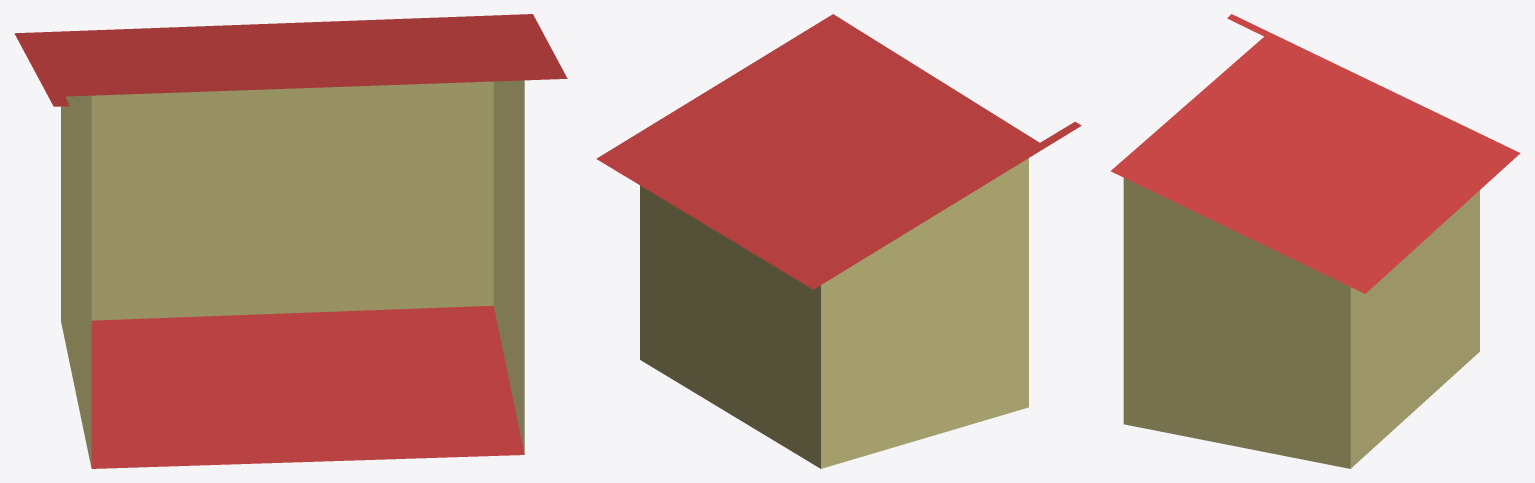
3 views of the same model, side by side, from view 1: azimuth 30°, elevation 25°; view 2: azimuth 150°, elevation 25°; view 3: azimuth 270°, elevation 25° (orthographic). The views are drawn at different scales.
Visible parts, largest first — view 1: group_5, group_6, group_3, group_4; view 2: group_5, group_3, group_4; view 3: group_5, group_3, group_4.
Boxes of the visible parts, x1,y1,x2,y2 form: group_5: (61,80,524,467); group_6: (91,305,524,468); group_3: (14,14,567,106); group_4: (25,14,557,106); group_5: (640,158,1028,468); group_3: (596,14,1081,289); group_4: (599,41,1077,287); group_5: (1123,178,1479,468); group_3: (1110,14,1520,293); group_4: (1141,16,1519,293).
Size of the model in its own units: 11.5 by 10.08 by 7.44.
